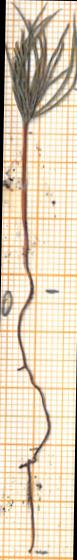flower: (5, 3, 76, 123)
root: (18, 269, 50, 552)
stem: (21, 123, 28, 268)
